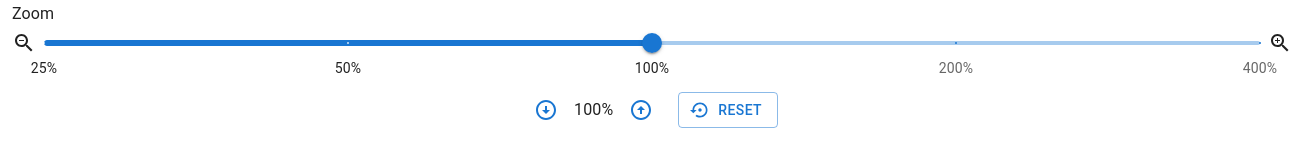
Test: ZoomMenuItem › increases zoom to 1.05 when zoom in button is clicked
The width and height of the screenshot is (1304, 160).
Click the button named "Zoom in": point(641, 110) [621,90,661,130]
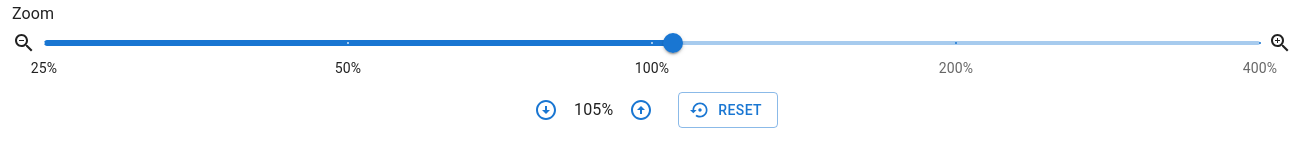
Expected: the text named "Zoom amount" reads "105%", [574,100,613,119]
